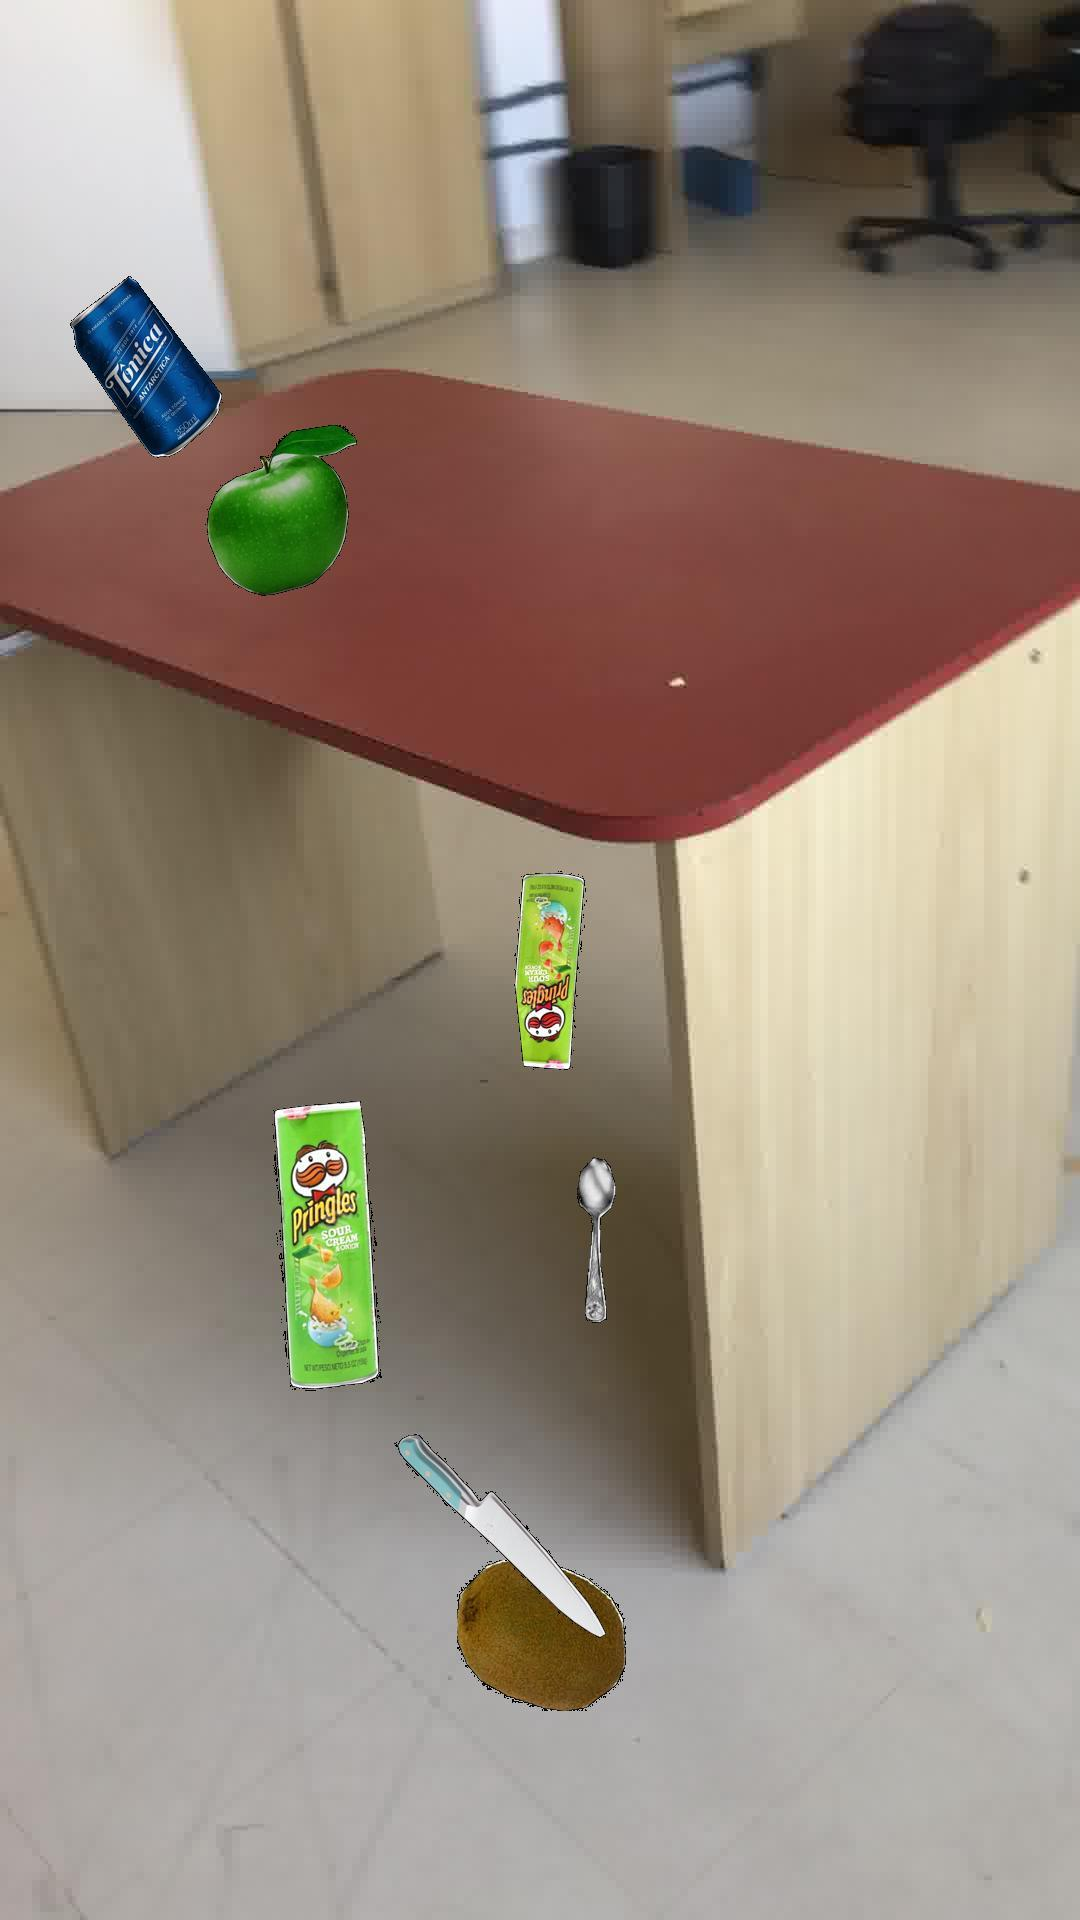green apple: (206, 423, 356, 595)
kiwi: (455, 1559, 625, 1709)
knife: (393, 1433, 604, 1636)
pringles: (273, 1100, 381, 1387), (513, 872, 583, 1068)
spoon: (575, 1155, 615, 1321)
tonic: (69, 274, 220, 456)
